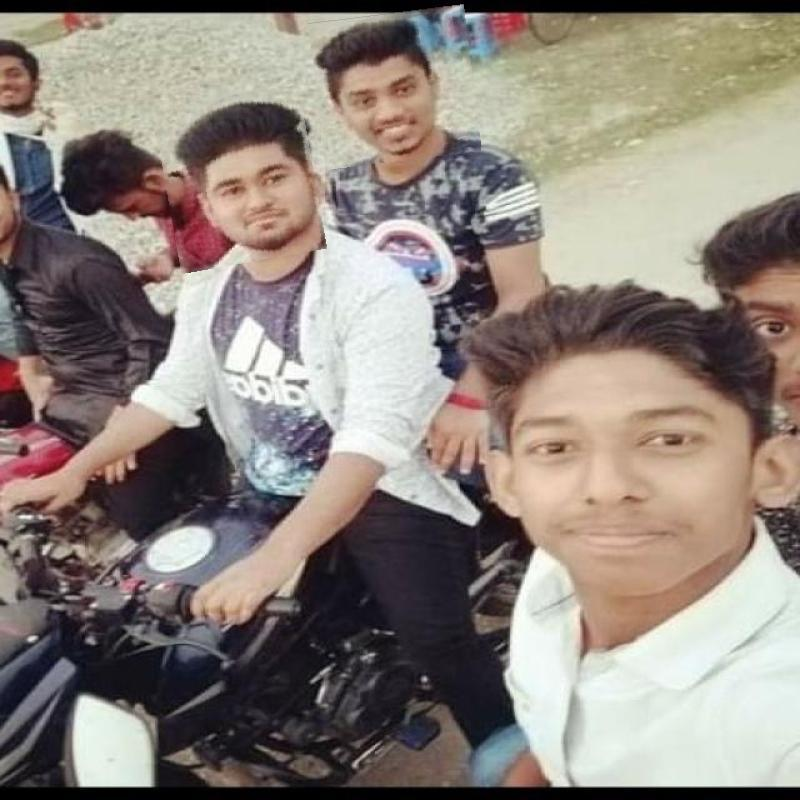nohelmet: (159, 90, 320, 268), (312, 8, 477, 166)
